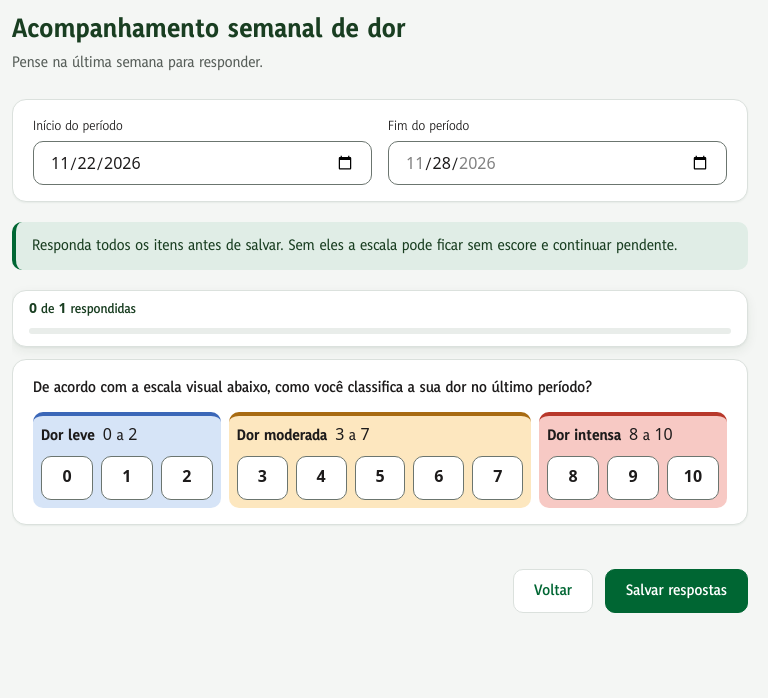
Test case: Escala › o registro de dor mostra a pergunta do papel e a escala visual com as faixas da definicao
Expected: the element named "De acordo com a escala visual abaixo, como você classifica a sua dor no último período?" is shown, [33,376,727,508]
Expected: the text "Intensidade da dor no período" is not shown
What coordinates should you click on to do the following:
click the button "Salvar respostas"
I would click on:
 (676, 591)
Its box is [605,569,748,613].
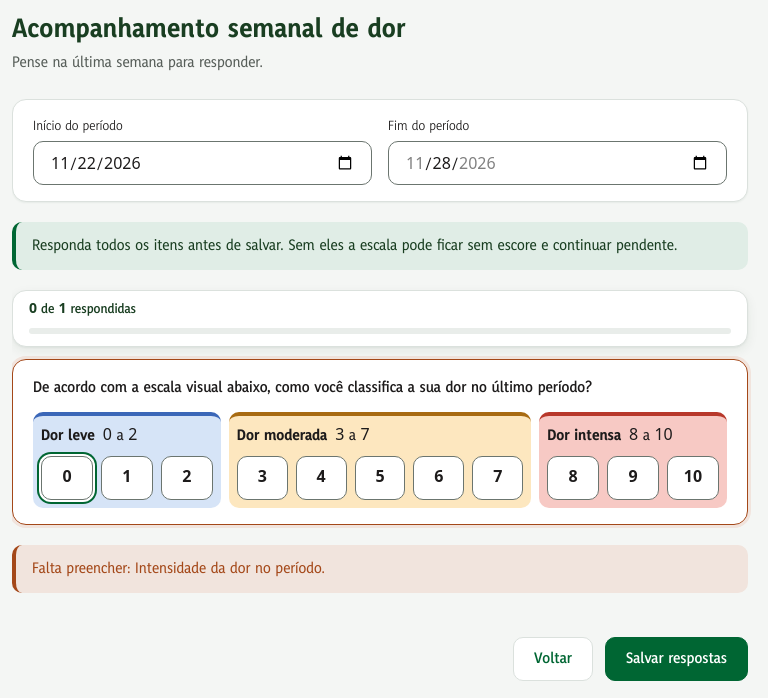
Now the message "Falta preencher: Intensidade da dor no período." is shown, box [12,545,748,593]
